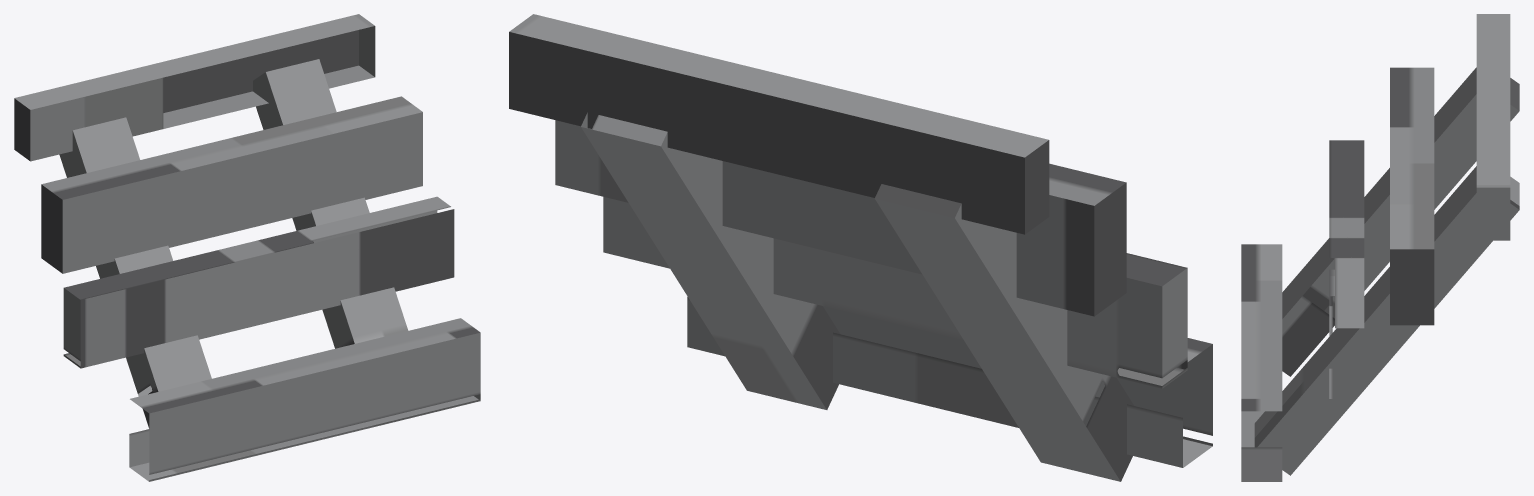
3 renders of one model, left to right at view 1: azimuth 30°, elevation 25°; view 2: azimuth 150°, elevation 25°; view 3: azimuth 270°, elevation 25°, orthographic. The views are drawn at different scales.
Bounding box in the file's own units: 1.17 × 0.9143 × 0.733.
